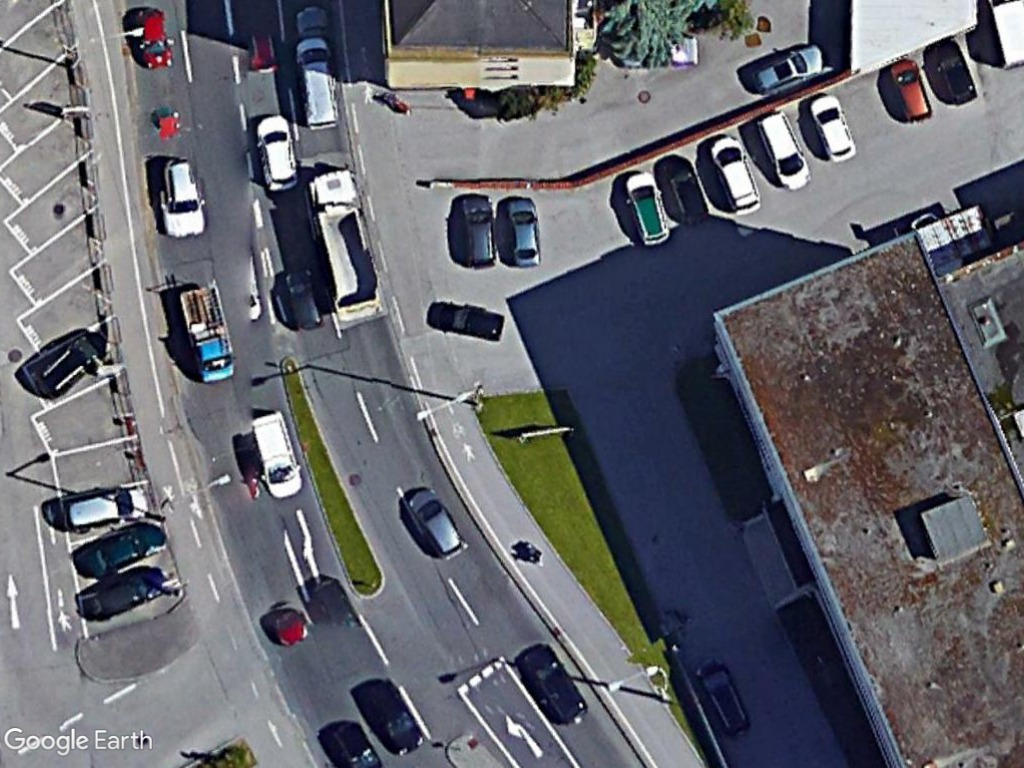car: (78, 508, 172, 582), (517, 643, 591, 731), (746, 34, 832, 99), (403, 482, 469, 565), (56, 481, 152, 536), (249, 110, 306, 198), (620, 169, 674, 252), (802, 92, 860, 166), (497, 189, 545, 273), (455, 186, 500, 272), (887, 56, 935, 127), (281, 265, 327, 336)
van: (287, 34, 345, 134), (751, 108, 815, 197), (246, 405, 304, 502), (702, 131, 765, 218)
